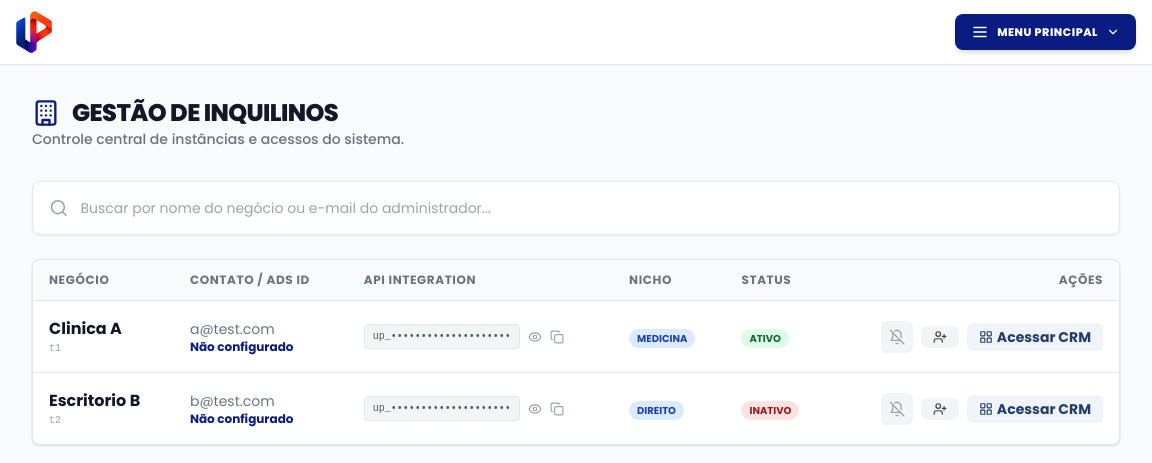
it: TenantsPage › deve ocultar/revelar a API Key
Check: the text "up_••••••••••••••••••••" in the row of "Clinica A" is shown, box [373, 331, 511, 342]
Click the button titled "Revelar Chave" in the row of "Clinica A". click: coordinates (535, 336)
box: [528, 330, 542, 344]
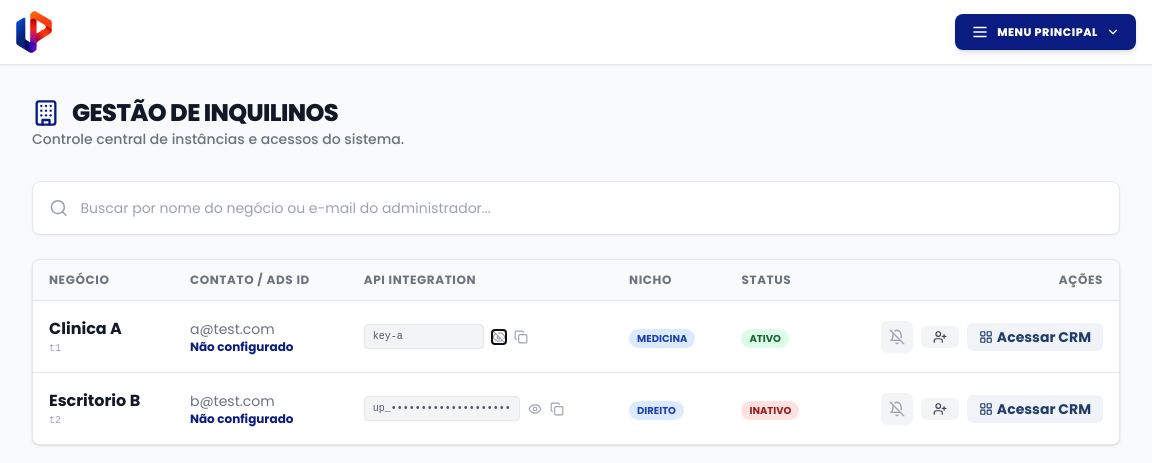
Check: the text "key-a" is shown, box [364, 324, 484, 349]
